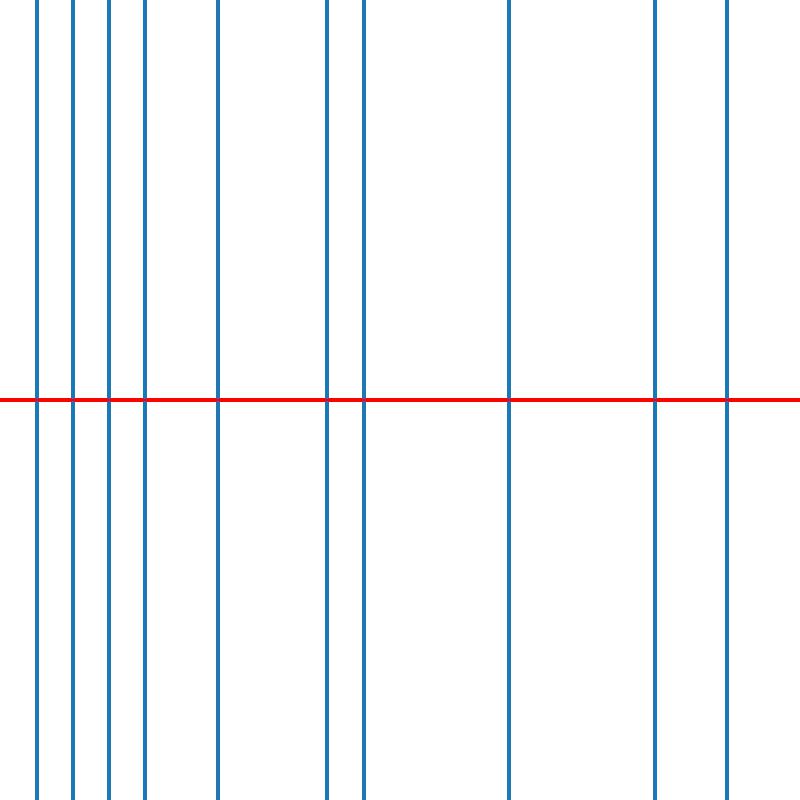root: (650, 396, 658, 404), (32, 396, 40, 404), (141, 396, 149, 404), (723, 396, 730, 404), (214, 396, 221, 404), (505, 396, 512, 404), (323, 396, 330, 404), (360, 396, 367, 404), (105, 396, 112, 404), (69, 396, 76, 404)
